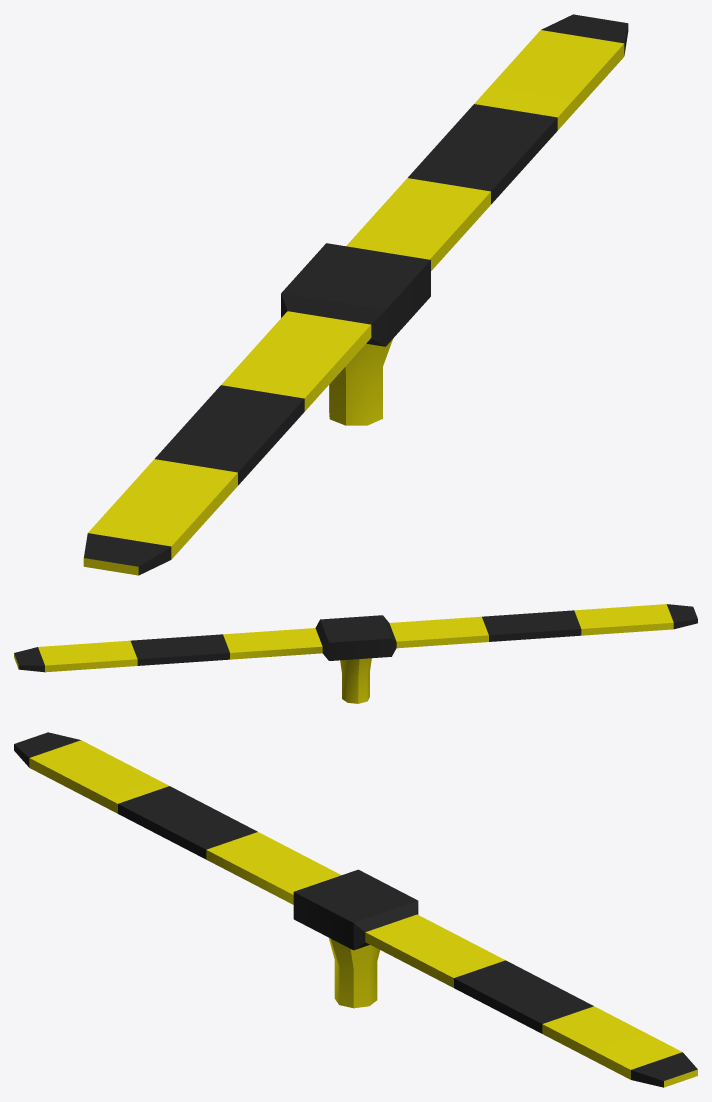
File: propelerzutocrni.fbx
3 renders of one model, top to bottom at view 1: azimuth 30°, elevation 25°; view 2: azimuth 150°, elevation 25°; view 3: azimuth 270°, elevation 25°, orthographic. The views are drawn at different scales.
Parts seen in each view (by area): view 1: drone_costum_Cube; view 2: drone_costum_Cube; view 3: drone_costum_Cube.
Boxes of the visible parts, x1=… form: drone_costum_Cube: x1=83, y1=14, x2=628, y2=575; drone_costum_Cube: x1=14, y1=604, x2=697, y2=703; drone_costum_Cube: x1=14, y1=732, x2=697, y2=1087.
Bounding box in the file's own units: 365 × 50.28 × 303.
